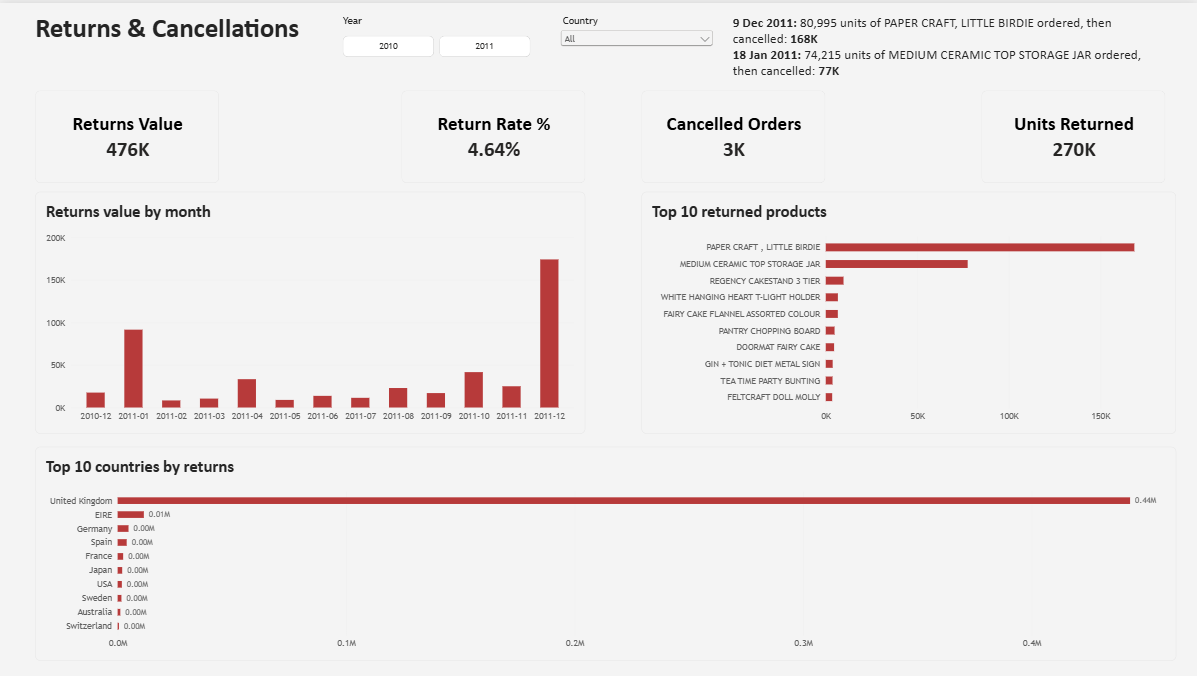

What the dashboard file says about the page in this screenshot:
{"tool":"powerbi","page":{"name":"Returns & Cancellations","canvas":[1920,1080],"ordinal":2},"visuals":[{"type":"textbox","box":[57.4,14.8,763,70.4],"z":0},{"type":"advancedSlicerVisual","fields":{"Values":["Dim_Date.Year"]},"box":[550.1,18.1,300.4,68.8],"z":1},{"type":"slicer","fields":{"Values":["Fact_Sales.Country"]},"box":[894,18.1,253.4,68.8],"z":2},{"type":"cardVisual","fields":{"Data":["Fact_Sales.Returns Value"]},"box":[57.9,139.3,294,148],"z":4},{"type":"cardVisual","fields":{"Data":["Fact_Sales.Return Rate %"]},"box":[644.2,139.3,294,148],"z":5},{"type":"cardVisual","fields":{"Data":["Fact_Sales.Cancelled Orders"]},"box":[1027.9,139.3,294,148],"z":6},{"type":"cardVisual","fields":{"Data":["Fact_Sales.Units Returned"]},"box":[1572.6,139.3,294,148],"z":7},{"type":"clusteredColumnChart","title":"Returns value by month","fields":{"Category":["Dim_Date.YearMonth"],"Y":["Fact_Sales.Returns Value"]},"box":[57.4,301.9,879.6,387],"z":8},{"type":"barChart","title":"Top 10 returned products","fields":{"Category":["Fact_Sales.Description"],"Y":["Fact_Sales.Returns Value"]},"box":[1027.8,301.9,855.6,387],"z":9},{"type":"barChart","title":"Top 10 countries by returns","fields":{"Category":["Fact_Sales.Country"],"Y":["Fact_Sales.Returns Value"]},"box":[57.4,709.3,1825.9,342.6],"z":10},{"type":"textbox","box":[1174.5,18.1,680.4,135.7],"z":11}]}

Visuals, with their boxes in screenshot pixels (x1, y1, x2, y2), scaled from the page's 1920x1080 canvas onto the 1197x676 screenshot:
textbox: 36, 9, 511, 53
advancedSlicerVisual - Dim_Date.Year: 343, 11, 530, 54
slicer - Fact_Sales.Country: 557, 11, 715, 54
cardVisual - Fact_Sales.Returns Value: 36, 87, 219, 180
cardVisual - Fact_Sales.Return Rate %: 402, 87, 585, 180
cardVisual - Fact_Sales.Cancelled Orders: 641, 87, 824, 180
cardVisual - Fact_Sales.Units Returned: 980, 87, 1164, 180
"Returns value by month" clusteredColumnChart: 36, 189, 584, 431
"Top 10 returned products" barChart: 641, 189, 1174, 431
"Top 10 countries by returns" barChart: 36, 444, 1174, 658
textbox: 732, 11, 1156, 96
